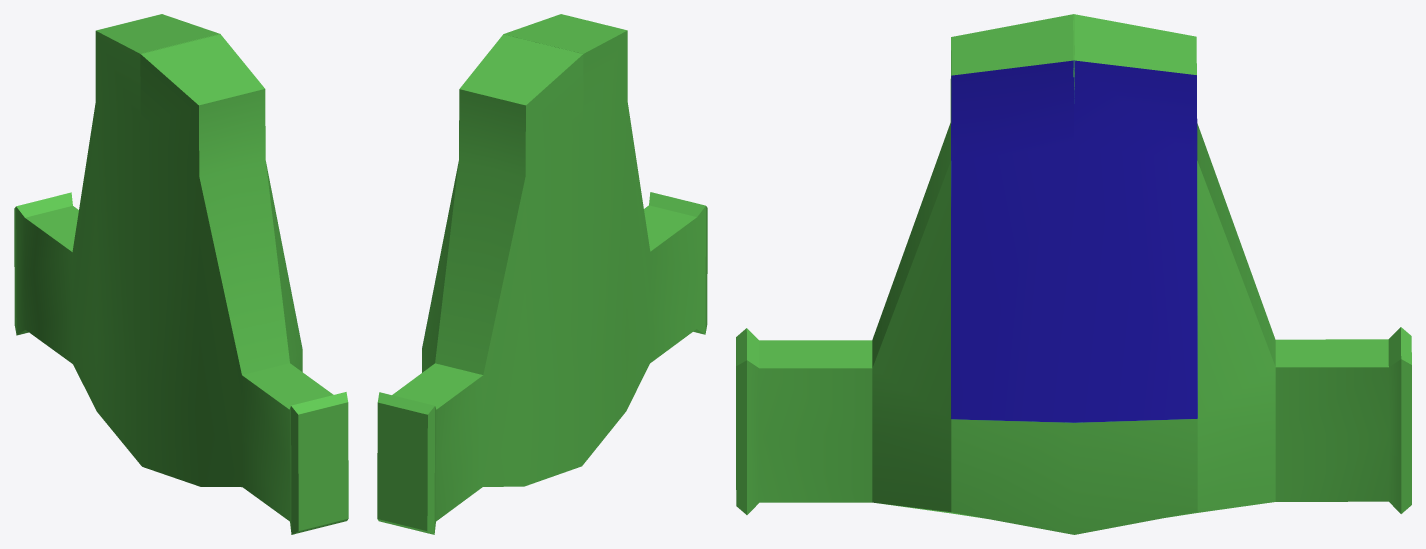
File: GreenShip11.fbx
3 renders of one model, left to right at view 1: azimuth 30°, elevation 25°; view 2: azimuth 150°, elevation 25°; view 3: azimuth 270°, elevation 25°, orthographic. The views are drawn at different scales.
Visible parts, largest first — view 1: Cube; view 2: Cube; view 3: Cube.
Boxes of the visible parts, <box> form: Cube: <box>14,14,348,534</box>; Cube: <box>377,14,707,534</box>; Cube: <box>736,14,1411,534</box>.
Bounding box in the file's own units: 132 × 444 × 549.
1 material, 1 textured.
